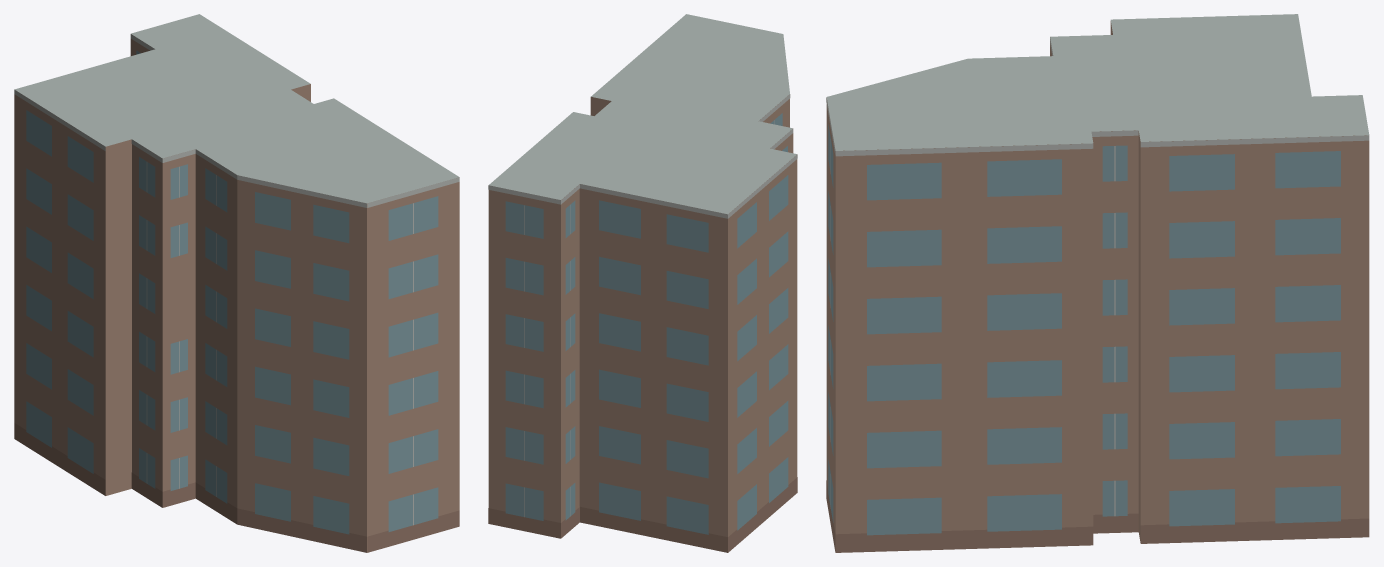
File: survey-upis-32985140.glb
3 views of the same model, side by side, from view 1: azimuth 30°, elevation 25°; view 2: azimuth 150°, elevation 25°; view 3: azimuth 270°, elevation 25° (orthographic). The views are drawn at different scales.
Parts seen in each view (by area): view 1: survey-upis-32985140.tmp; view 2: survey-upis-32985140.tmp; view 3: survey-upis-32985140.tmp.
Part boxes in pixels (bbox=[...]): survey-upis-32985140.tmp: bbox=[14, 14, 459, 552]; survey-upis-32985140.tmp: bbox=[488, 14, 797, 552]; survey-upis-32985140.tmp: bbox=[826, 14, 1369, 552].
Size of the model in its own units: 13.39 by 18.3 by 22.41.
